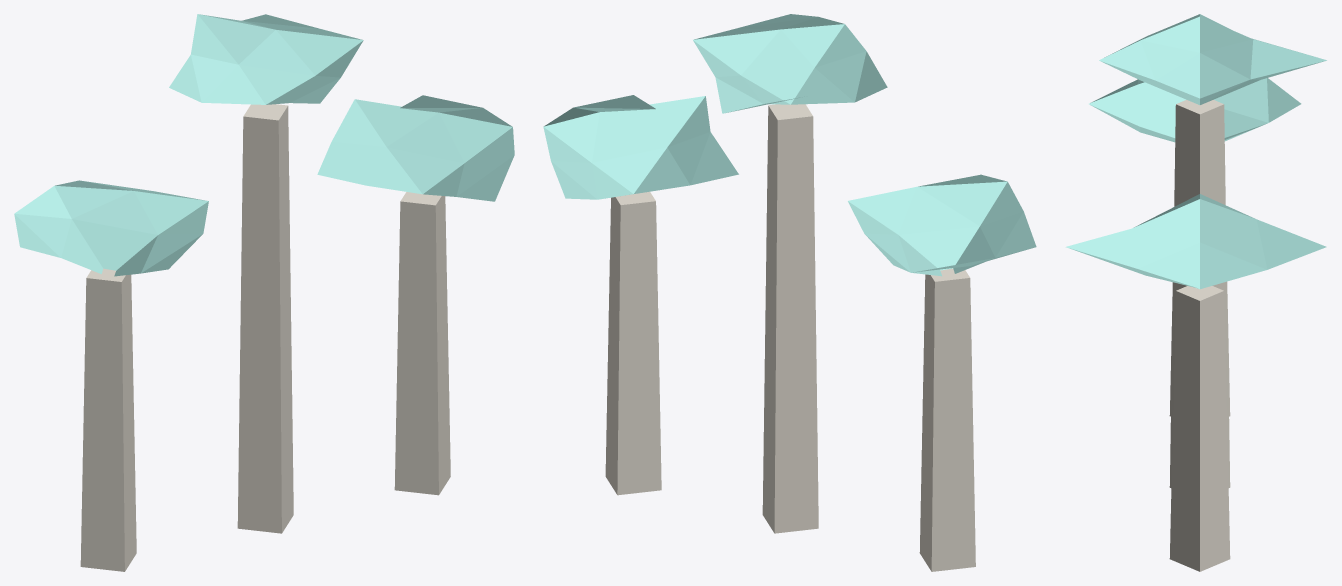
The model's file is glowcap_v19.glb.
3 views of the same model, side by side, from view 1: azimuth 30°, elevation 25°; view 2: azimuth 150°, elevation 25°; view 3: azimuth 270°, elevation 25° (orthographic). The views are drawn at different scales.
Parts seen in each view (by area): view 1: lod0; view 2: lod0; view 3: lod0.
Part boxes in pixels (bbox=[...]): lod0: bbox=[14, 14, 514, 571]; lod0: bbox=[543, 14, 1036, 571]; lod0: bbox=[1066, 14, 1326, 571].
Size of what is drawn, in the model's own units: 0.4395 by 0.4324 by 0.2171.
